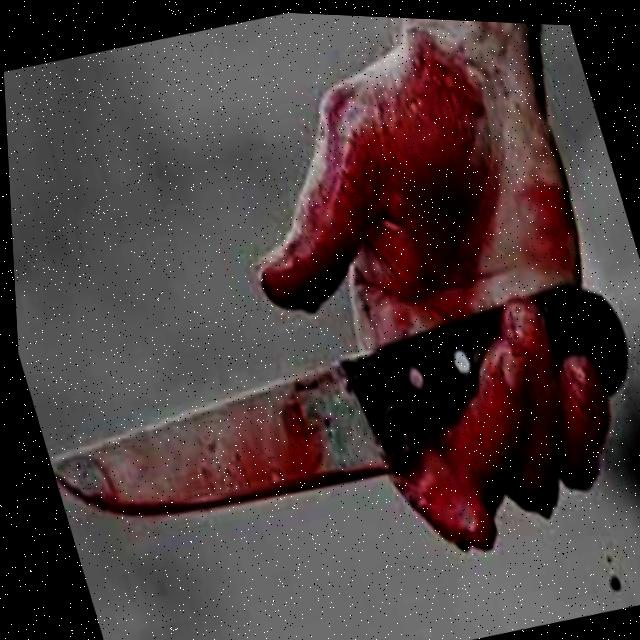knife: (27, 322, 428, 552)
